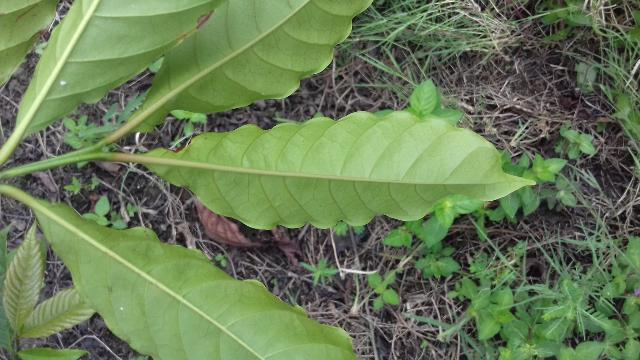healthy: (109, 110, 550, 229)
